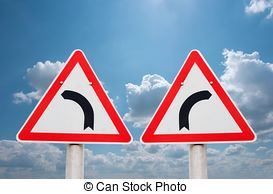Bend_to_left: (14, 48, 134, 146)
Bend_to_right: (139, 48, 258, 145)
